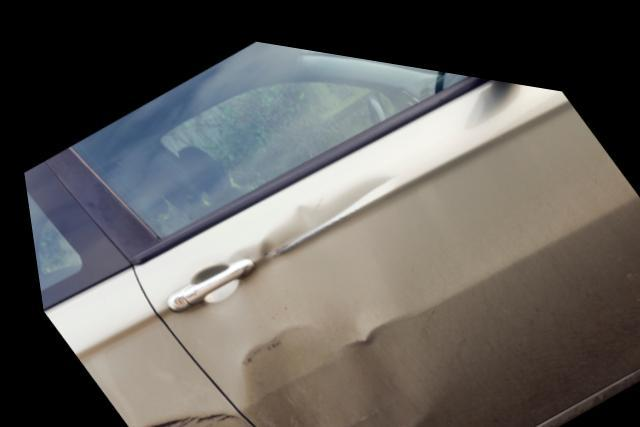dent: (229, 254, 424, 427), (225, 161, 386, 253)
scratch: (131, 408, 244, 427)
